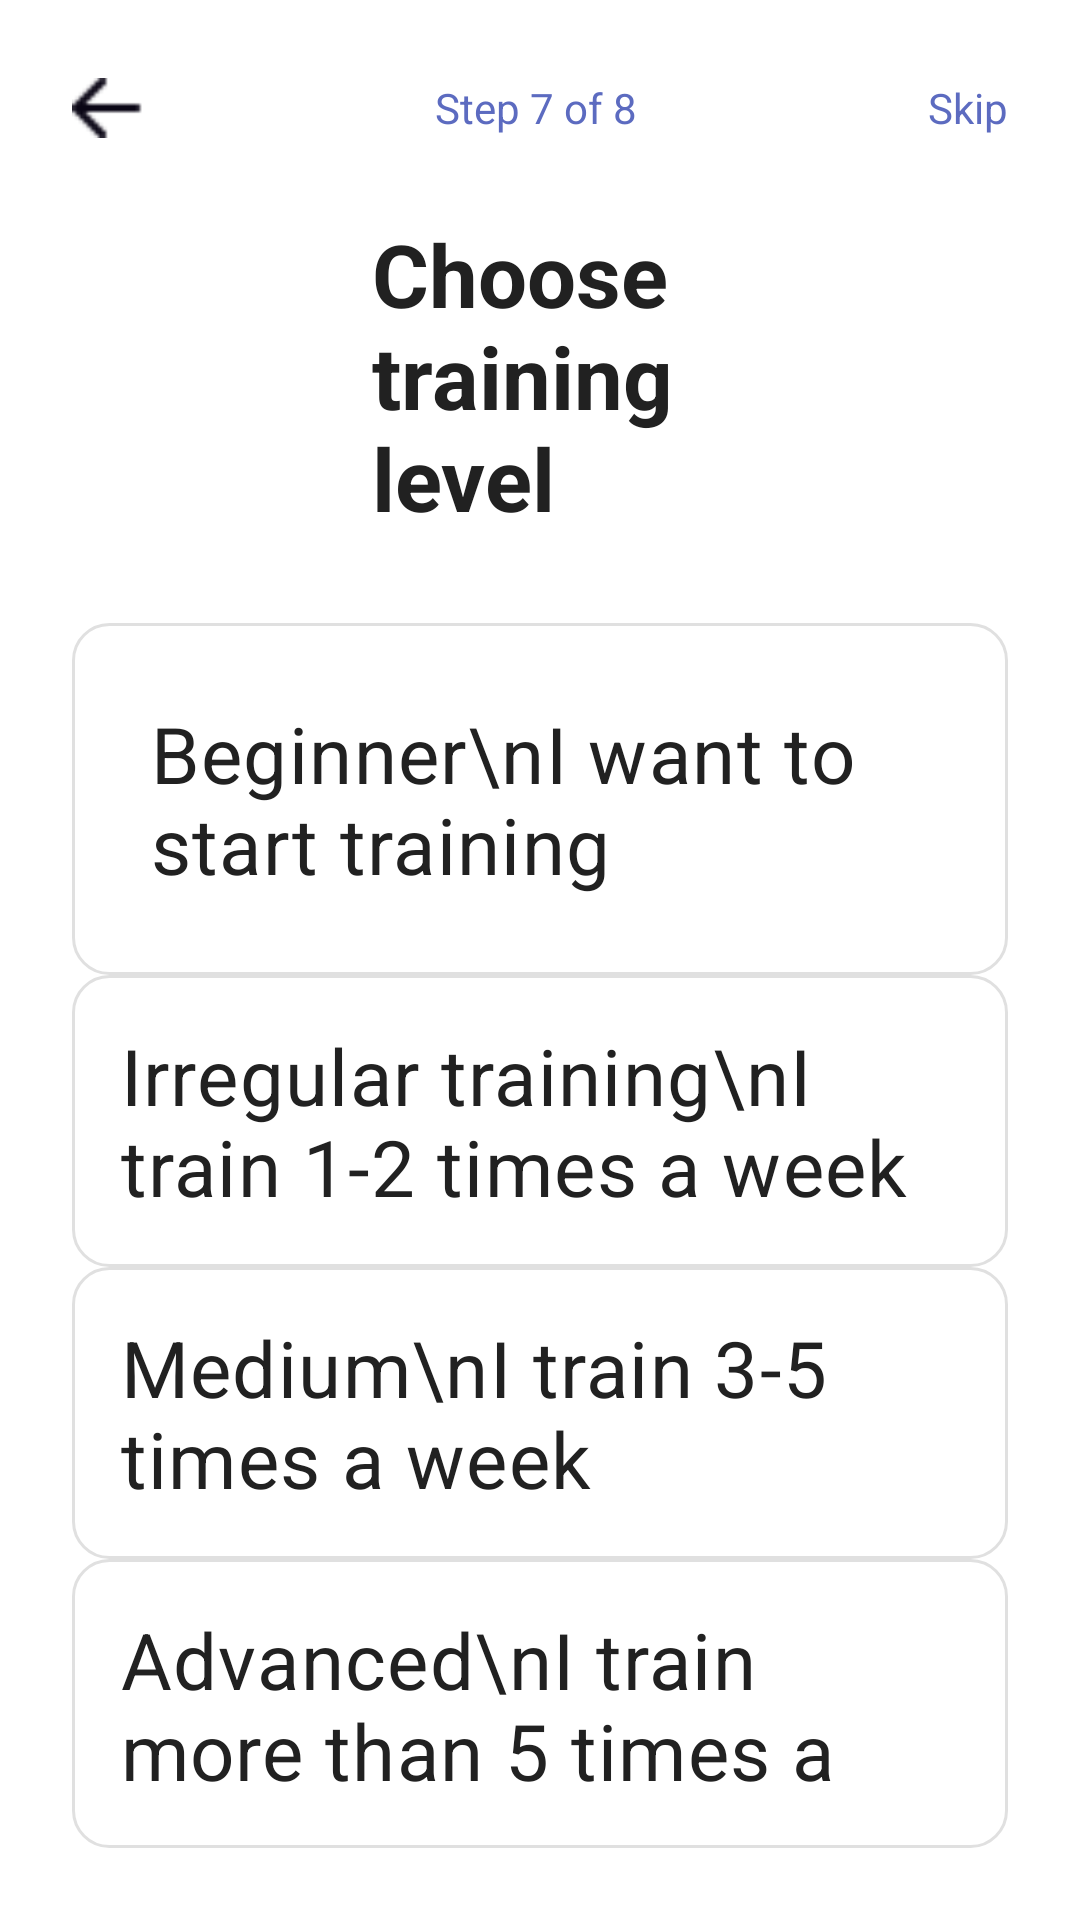

Locate icon controls on the screen. Image size 1080x1920, boxes as Rect(x1, y1, x2, y2).
Back: Rect(72, 78, 142, 138)
